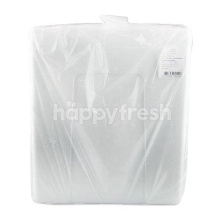foam_box: (25, 8, 191, 208)
